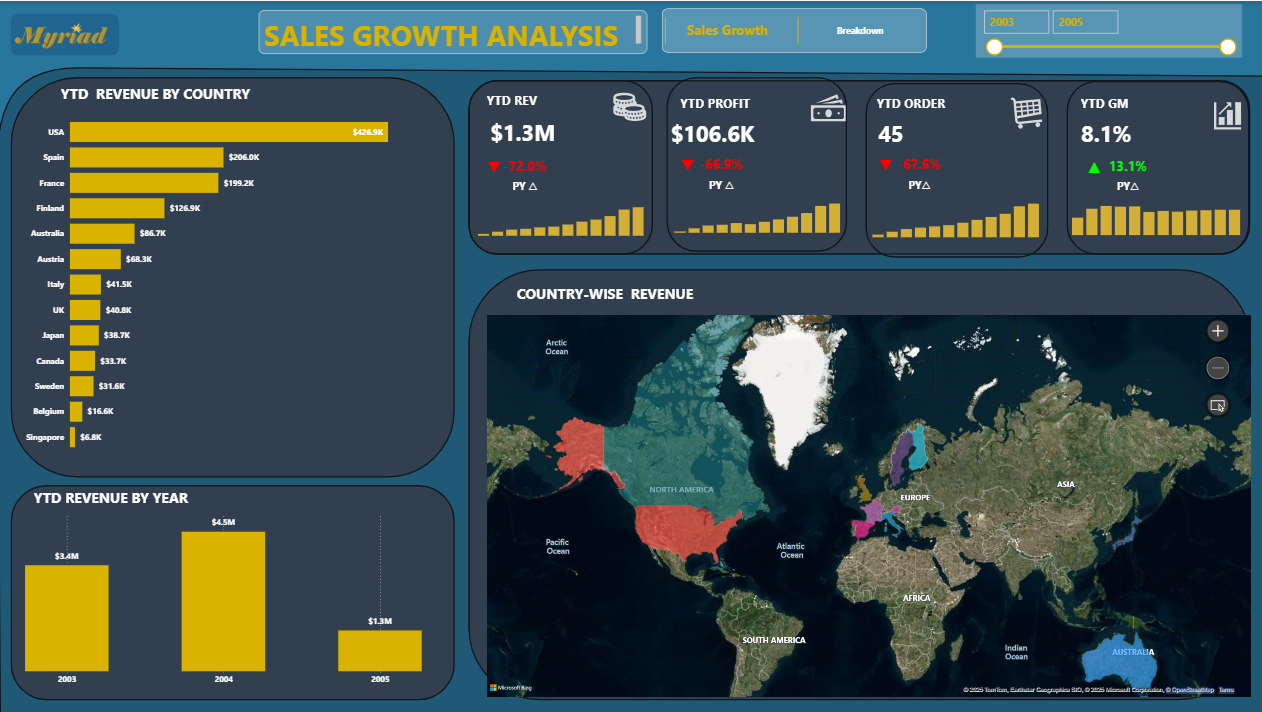

This screenshot's page, from the dashboard's own definition file:
{"tool":"powerbi","page":{"name":"Sales Growth","canvas":[1920,1080],"ordinal":0},"visuals":[{"type":"card","fields":{"Values":["Dax.Total Revenue"]},"box":[324.5,195.6,210,128.8],"z":0},{"type":"card","fields":{"Values":["Dax.YoY ORDER"]},"box":[1352.4,224.9,88.3,69.2],"z":0,"group":"g3"},{"type":"card","fields":{"Values":["Dax.YoY PROFIT"]},"box":[1052,226,88.3,69.2],"z":0,"group":"g2"},{"type":"card","fields":{"Values":["Dax.YoY GM"]},"box":[1668.2,227.7,88.3,69.2],"z":0,"group":"g4"},{"type":"card","fields":{"Values":["Dax.YTD Sale"]},"box":[718.2,133.6,140.8,131.2],"z":1000},{"type":"card","fields":{"Values":["Dax.Order Icon"]},"box":[1321.4,225.7,50.1,50.1],"z":1000,"group":"g3"},{"type":"card","fields":{"Values":["Dax.Profit Icon"]},"box":[1021,226.8,50.1,50.1],"z":1000,"group":"g2"},{"type":"card","fields":{"Values":["Dax.GM Icon"]},"box":[1637.2,228.5,50.1,50.1],"z":1000,"group":"g4"},{"type":"card","fields":{"Values":["Dax.YTD PROFIT"]},"box":[1010,145,147.5,110],"z":2000},{"type":"card","fields":{"Values":["Dax.YoY Sale"]},"box":[755.4,226.7,88.3,69.2],"z":3000,"group":"g1"},{"type":"columnChart","fields":{"Category":["Calendar.MONTH"],"Y":["Dax.YTD Sale"]},"box":[725.3,283.9,262.5,76.3],"z":3000},{"type":"donutChart","fields":{"Y":["Dax.Total Revenue"]},"box":[241,131.2,379.4,245.7],"z":4000},{"type":"textbox","box":[737.5,132.5,112.5,45],"z":5000},{"type":"textbox","box":[1030.7,136,145.5,42.9],"z":6000},{"type":"textbox","box":[1329,136,114.5,42.9],"z":7000},{"type":"textbox","box":[1636.7,136,114.5,42.9],"z":8000},{"type":"card","fields":{"Values":["Dax.YTD ORDER"]},"box":[1280,145,147.5,110],"z":9000},{"type":"card","fields":{"Values":["Dax.YTD GM"]},"box":[1615.3,145.5,147.9,109.8],"z":10000},{"type":"columnChart","fields":{"Category":["Calendar.MONTH"],"Y":["Dax.YTD PROFIT"]},"box":[1023.6,283.9,262.5,76.3],"z":11000},{"type":"columnChart","fields":{"Category":["Calendar.MONTH"],"Y":["Dax.YTD ORDER"]},"box":[1322.5,287.5,262.5,75],"z":12000},{"type":"columnChart","fields":{"Category":["Calendar.MONTH"],"Y":["Dax.YTD GM"]},"box":[1624.8,286.3,264.8,74],"z":13000},{"type":"advancedSlicerVisual","fields":{"Values":["Dim_Customer.COUNTRY"]},"box":[16.7,85.9,181.3,985.4],"z":14000},{"type":"group","id":"g1","title":"Group 1","box":[729.2,226.7,114.5,69.2],"z":15000},{"type":"group","id":"g2","title":"Group 2","box":[1021,226,119.3,69.2],"z":16000},{"type":"group","id":"g3","title":"Group 2","box":[1321.4,224.9,119.3,69.2],"z":17000},{"type":"group","id":"g4","title":"Group 2","box":[1637.2,227.7,119.3,69.2],"z":18000},{"type":"areaChart","fields":{"Y":["Dax.YTD PROFIT","Dax.YTD REVENUE"],"Category":["Calendar.MONTH"]},"box":[255.3,415.1,1460.2,288.7],"z":19000},{"type":"tableEx","fields":{"Values":["Dim_Product.PRODUCTLINE","Dax.PYTD sales","Dax.YTD REVENUE","Dax.Revenue Icon","Dax.YoY REVENUE"]},"box":[255.3,765.9,1114.2,293.5],"z":20000},{"type":"card","fields":{"Values":["Dax.Revenue Icon"]},"box":[729.2,226.7,50.1,50.1],"z":20003,"group":"g1"},{"type":"barChart","fields":{"Category":["Dim_Product.PRODUCTLINE"],"Y":["Dax.YTD PROFIT"]},"box":[1448.3,765.9,450.9,293.5],"z":21000},{"type":"advancedSlicerVisual","fields":{"Values":["Rev/Prof.Rev/Prof"]},"box":[1736.9,434.2,150.3,262.5],"z":22000},{"type":"textbox","box":[255.3,121.7,250.5,69.2],"z":23000},{"type":"textbox","box":[305.4,403.2,422.3,69.2],"z":24000},{"type":"textbox","box":[293.5,730.1,582.2,69.2],"z":25000},{"type":"textbox","box":[1467.3,742,422.3,69.2],"z":26000},{"type":"textbox","box":[397.5,12.9,588.7,66.6],"z":27000},{"type":"slicer","fields":{"Values":["Calendar.YEAR"]},"box":[1484.7,4.3,391,81.6],"z":28000},{"type":"pageNavigator","box":[1009.2,11.9,400.8,66.8],"z":29000}]}

Visuals, with their boxes in screenshot pixels (x1, y1, x2, y2), scaled from the page's 1920x1080 canvas onto the 1262x712 screenshot:
card - Dax.Total Revenue: x1=213, y1=129, x2=351, y2=214
card - Dax.YoY ORDER: x1=889, y1=148, x2=947, y2=194
card - Dax.YoY PROFIT: x1=691, y1=149, x2=750, y2=195
card - Dax.YoY GM: x1=1096, y1=150, x2=1155, y2=196
card - Dax.YTD Sale: x1=472, y1=88, x2=565, y2=175
card - Dax.Order Icon: x1=869, y1=149, x2=901, y2=182
card - Dax.Profit Icon: x1=671, y1=150, x2=704, y2=183
card - Dax.GM Icon: x1=1076, y1=151, x2=1109, y2=184
card - Dax.YTD PROFIT: x1=664, y1=96, x2=761, y2=168
card - Dax.YoY Sale: x1=497, y1=149, x2=555, y2=195
columnChart - Calendar.MONTH x Dax.YTD Sale: x1=477, y1=187, x2=649, y2=237
donutChart - Dax.Total Revenue: x1=158, y1=86, x2=408, y2=248
textbox: x1=485, y1=87, x2=559, y2=117
textbox: x1=677, y1=90, x2=773, y2=118
textbox: x1=874, y1=90, x2=949, y2=118
textbox: x1=1076, y1=90, x2=1151, y2=118
card - Dax.YTD ORDER: x1=841, y1=96, x2=938, y2=168
card - Dax.YTD GM: x1=1062, y1=96, x2=1159, y2=168
columnChart - Calendar.MONTH x Dax.YTD PROFIT: x1=673, y1=187, x2=845, y2=237
columnChart - Calendar.MONTH x Dax.YTD ORDER: x1=869, y1=190, x2=1042, y2=239
columnChart - Calendar.MONTH x Dax.YTD GM: x1=1068, y1=189, x2=1242, y2=238
advancedSlicerVisual - Dim_Customer.COUNTRY: x1=11, y1=57, x2=130, y2=706
"Group 1" group: x1=479, y1=149, x2=555, y2=195
"Group 2" group: x1=671, y1=149, x2=750, y2=195
"Group 2" group: x1=869, y1=148, x2=947, y2=194
"Group 2" group: x1=1076, y1=150, x2=1155, y2=196
areaChart - Dax.YTD PROFIT x Dax.YTD REVENUE: x1=168, y1=274, x2=1128, y2=464
tableEx - Dim_Product.PRODUCTLINE x Dax.PYTD sales: x1=168, y1=505, x2=900, y2=698
card - Dax.Revenue Icon: x1=479, y1=149, x2=512, y2=182
barChart - Dim_Product.PRODUCTLINE x Dax.YTD PROFIT: x1=952, y1=505, x2=1248, y2=698
advancedSlicerVisual - Rev/Prof.Rev/Prof: x1=1142, y1=286, x2=1240, y2=459
textbox: x1=168, y1=80, x2=332, y2=126
textbox: x1=201, y1=266, x2=478, y2=311
textbox: x1=193, y1=481, x2=576, y2=527
textbox: x1=964, y1=489, x2=1242, y2=535
textbox: x1=261, y1=9, x2=648, y2=52
slicer - Calendar.YEAR: x1=976, y1=3, x2=1233, y2=57
pageNavigator: x1=663, y1=8, x2=927, y2=52
